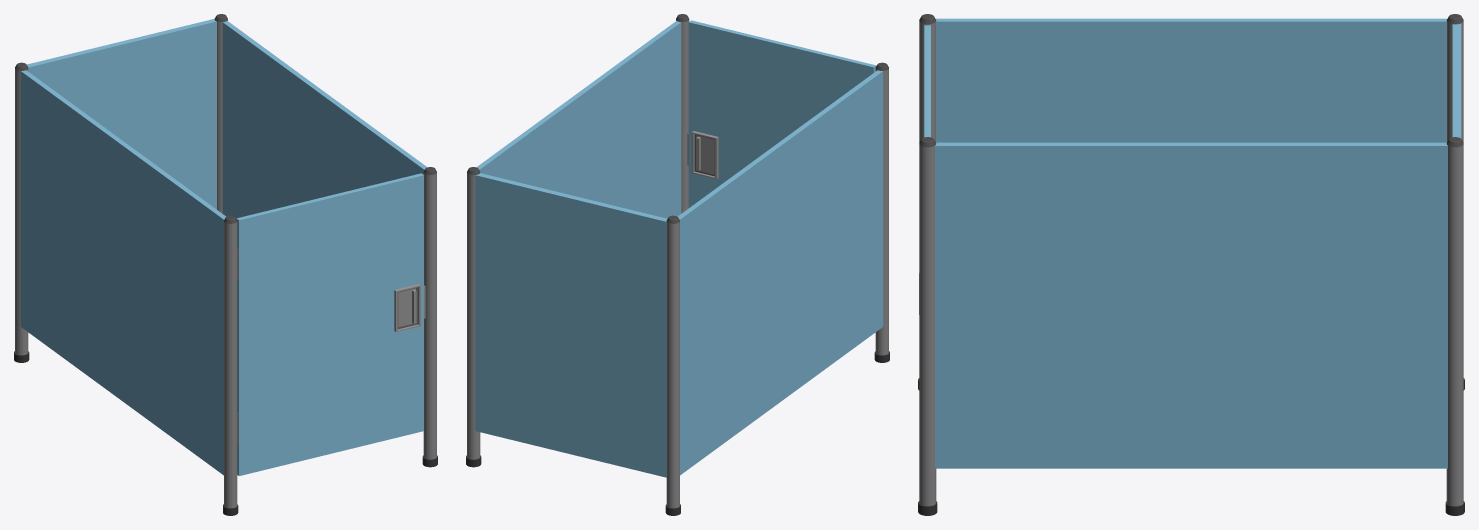
The model's file is Single Bathroom Stall Blue.fbx.
The picture shows the model from 3 angles, left to right: view 1: azimuth 30°, elevation 25°; view 2: azimuth 150°, elevation 25°; view 3: azimuth 270°, elevation 25°; orthographic projection. The views are drawn at different scales.
Parts seen in each view (by area): view 1: Single Bathroom Stall Blue; view 2: Single Bathroom Stall Blue; view 3: Single Bathroom Stall Blue.
Part boxes in pixels (box(x1,y1,x2,y2)): Single Bathroom Stall Blue: box(14, 14, 437, 515); Single Bathroom Stall Blue: box(466, 14, 889, 515); Single Bathroom Stall Blue: box(918, 14, 1464, 515).
Bounding box in the file's own units: 162 × 215 × 286.
Materials: 1 (1 with a texture image).
